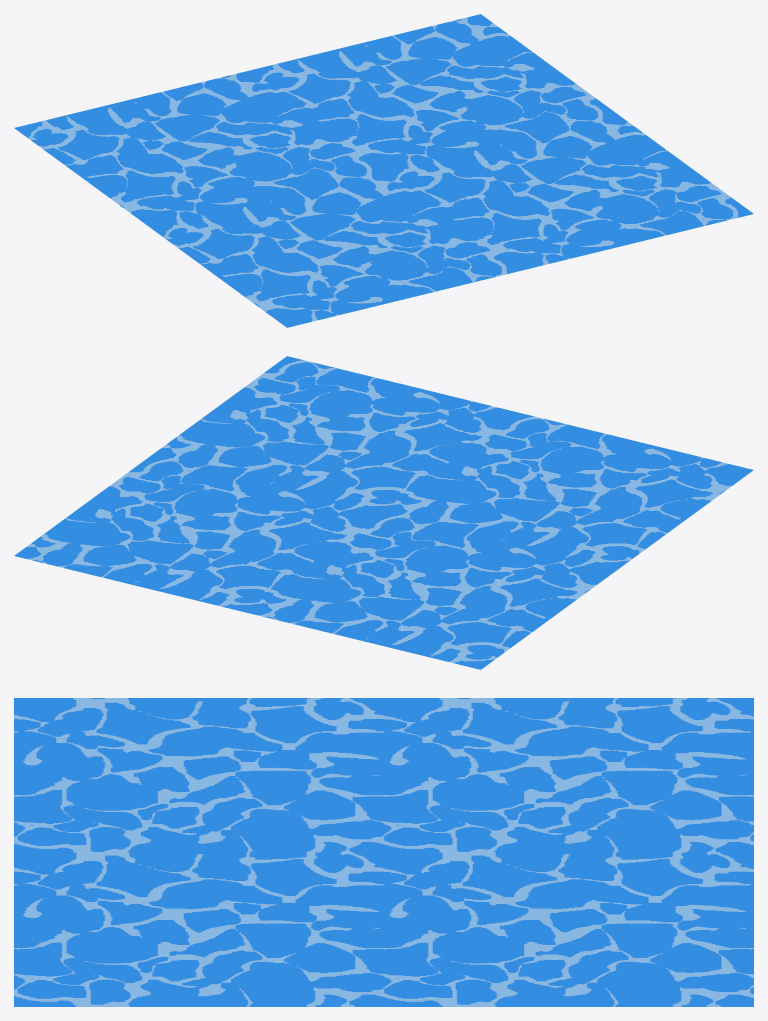
File: mWaterSurface.obj
3 renders of one model, top to bottom at view 1: azimuth 30°, elevation 25°; view 2: azimuth 150°, elevation 25°; view 3: azimuth 270°, elevation 25°, orthographic. The views are drawn at different scales.
Parts seen in each view (by area): view 1: mWaterSurface; view 2: mWaterSurface; view 3: mWaterSurface.
Boxes of the visible parts, x1,y1,x2,y2 form: mWaterSurface: (14, 14, 753, 327); mWaterSurface: (14, 356, 753, 669); mWaterSurface: (14, 698, 753, 1006).
Bounding box in the file's own units: 45.97 × 0 × 46.57.
Materials: 1 (1 with a texture image).
